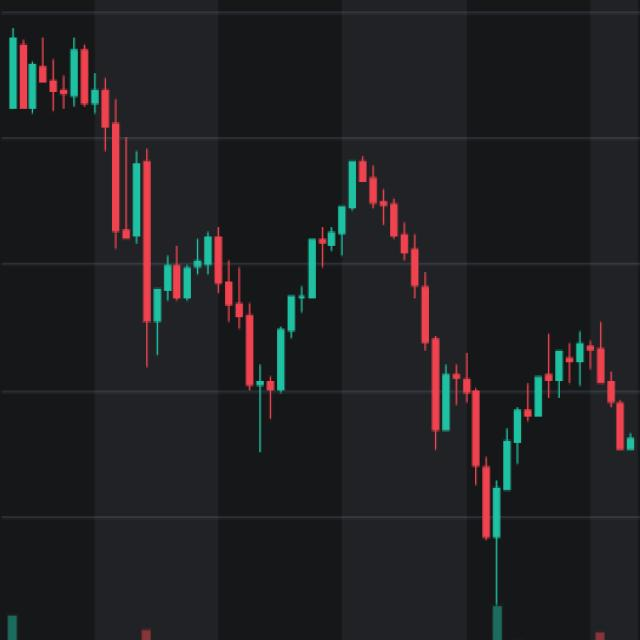Resistance-Emerging: (154, 146, 593, 546)
